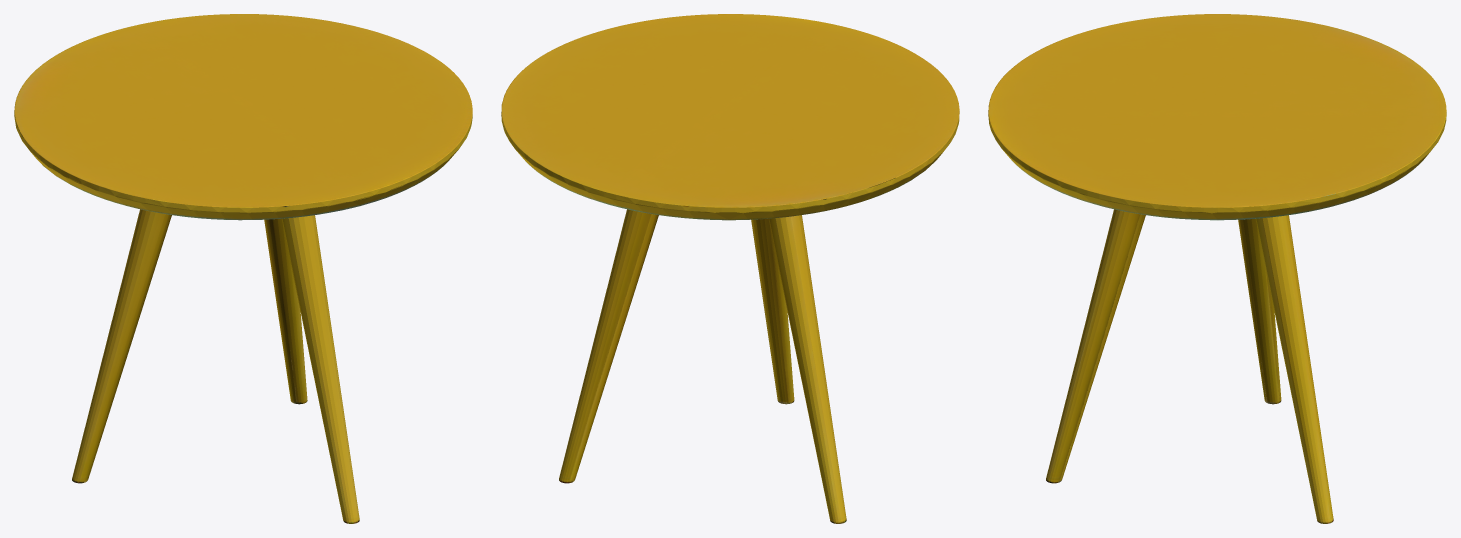
File: edited_mesh.glb
3 renders of one model, left to right at view 1: azimuth 30°, elevation 25°; view 2: azimuth 150°, elevation 25°; view 3: azimuth 270°, elevation 25°, orthographic.
Parts seen in each view (by area): view 1: normalized_model.obj; view 2: normalized_model.obj; view 3: normalized_model.obj.
Part boxes in pixels (x1,y1,x2,y2): normalized_model.obj: (14, 14, 472, 523); normalized_model.obj: (501, 14, 959, 523); normalized_model.obj: (988, 14, 1446, 523).
Bounding box in the file's own units: 1.47 × 1.26 × 1.47.
Materials: 1 (1 with a texture image).
